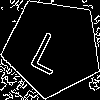L: (28, 22, 73, 76)
